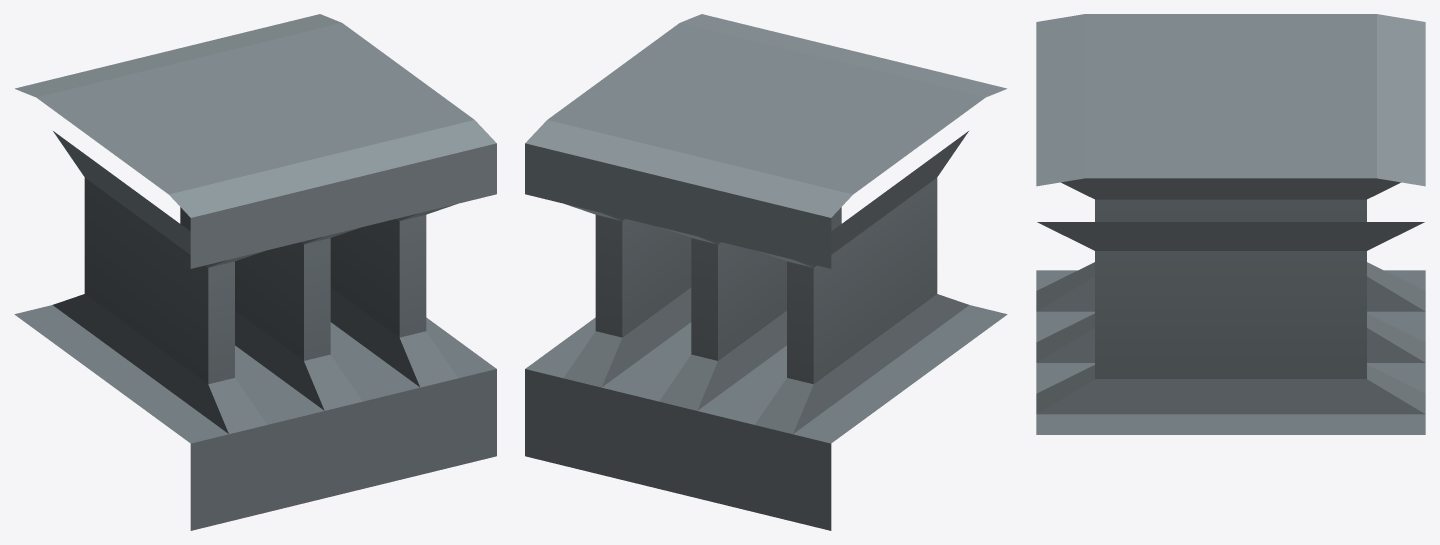
File: barrier.glb
3 views of the same model, side by side, from view 1: azimuth 30°, elevation 25°; view 2: azimuth 150°, elevation 25°; view 3: azimuth 270°, elevation 25° (orthographic). The views are drawn at different scales.
Visible parts, largest first — view 1: barrier; view 2: barrier; view 3: barrier.
Part boxes in pixels (x1,y1,x2,y2): barrier: (14, 14, 496, 530); barrier: (525, 14, 1007, 530); barrier: (1036, 14, 1425, 434).
Size of the model in its own units: 1 by 1 by 1.
Materials: 1 (1 with a texture image).
